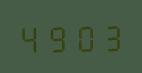four: (18, 20, 43, 53)
nine: (44, 20, 69, 53)
three: (96, 19, 121, 52)
zero: (70, 20, 95, 52)
